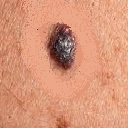Melanoma: (47, 23, 77, 67)
